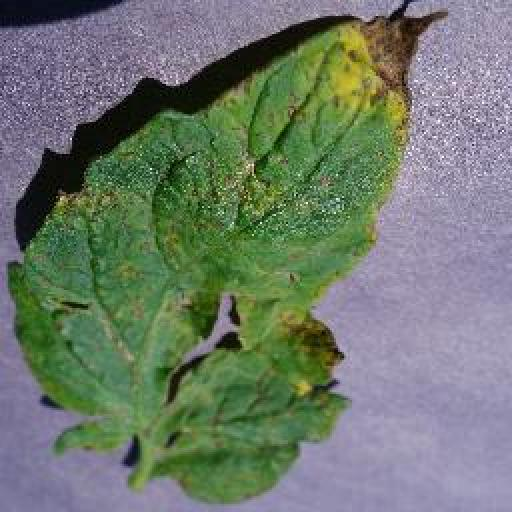Septoria: (10, 11, 412, 505)
